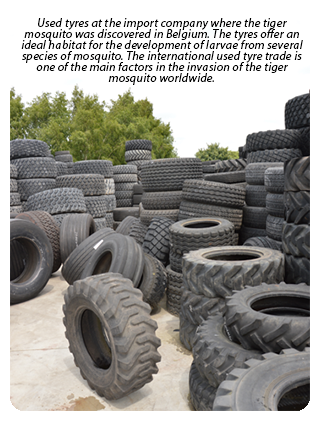tire: (59, 270, 161, 400), (227, 282, 319, 353), (211, 348, 310, 410), (179, 245, 287, 296), (80, 228, 146, 308), (10, 209, 54, 306), (162, 216, 238, 250), (19, 187, 88, 218), (135, 161, 208, 190), (181, 178, 246, 207), (241, 131, 303, 149), (125, 139, 155, 151)
